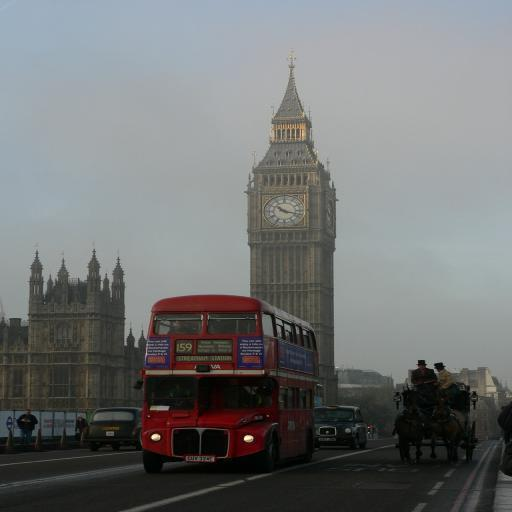horse: (391, 392, 429, 460), (431, 396, 466, 469)
